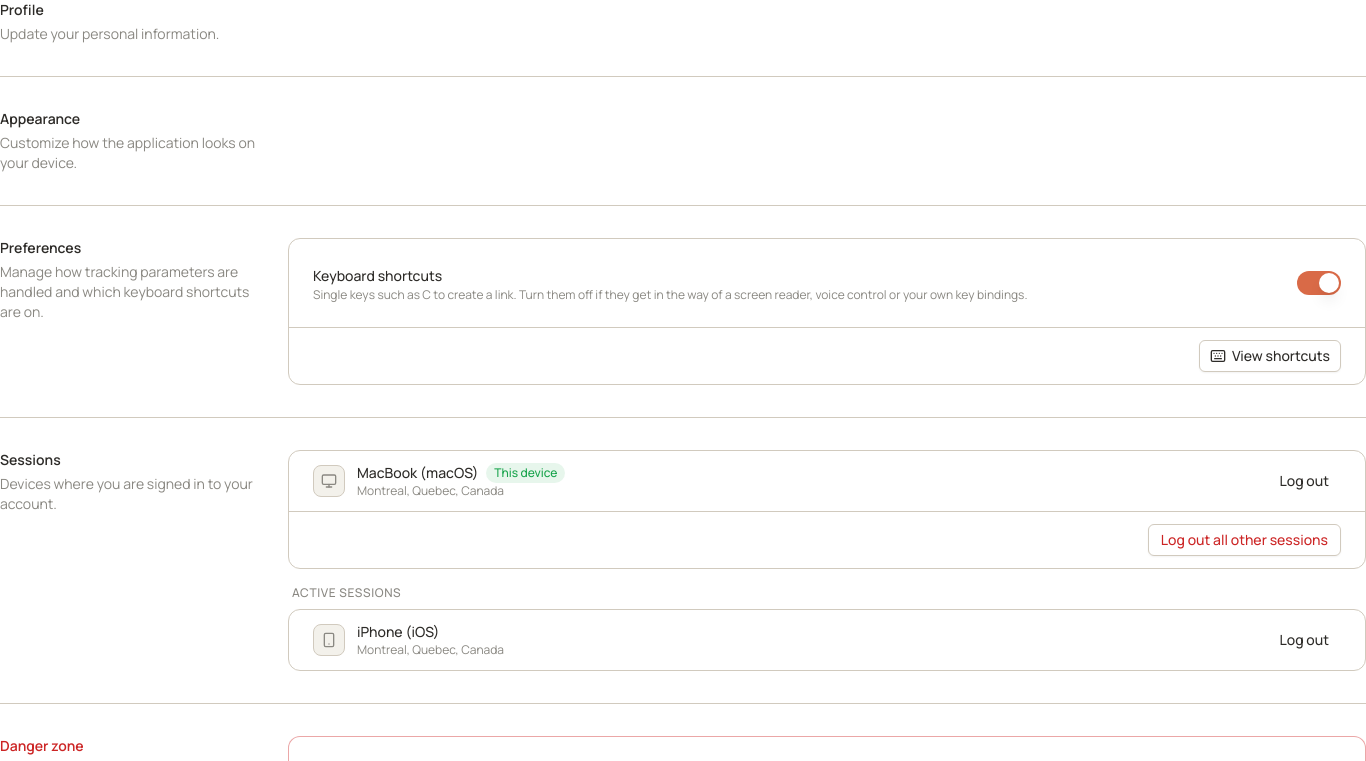
Test: GeneralSettingsPage sessions › falls back to the default token lifetime when the token is not a valid JWT
The width and height of the screenshot is (1366, 761).
Click the button "Log out" in the row of "iPhone (iOS)" at point(1304, 640), box x1=1268 y1=624 x2=1341 y2=656
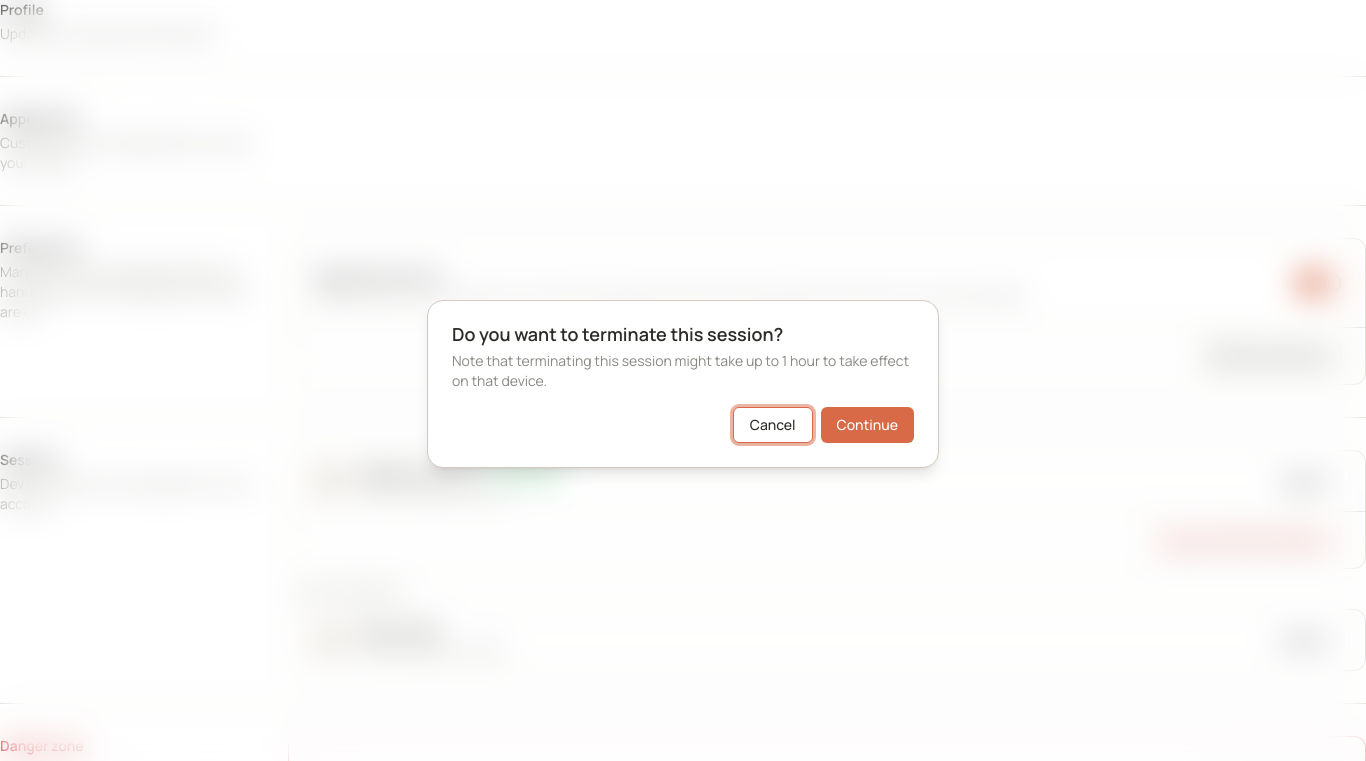
Check: the text "up to 1 hour to take effect" is shown, box x1=452 y1=351 x2=909 y2=390
